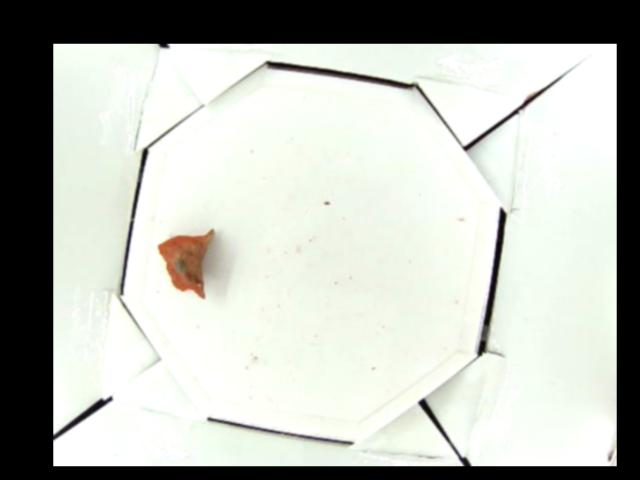Brisk: (157, 227, 215, 295)
